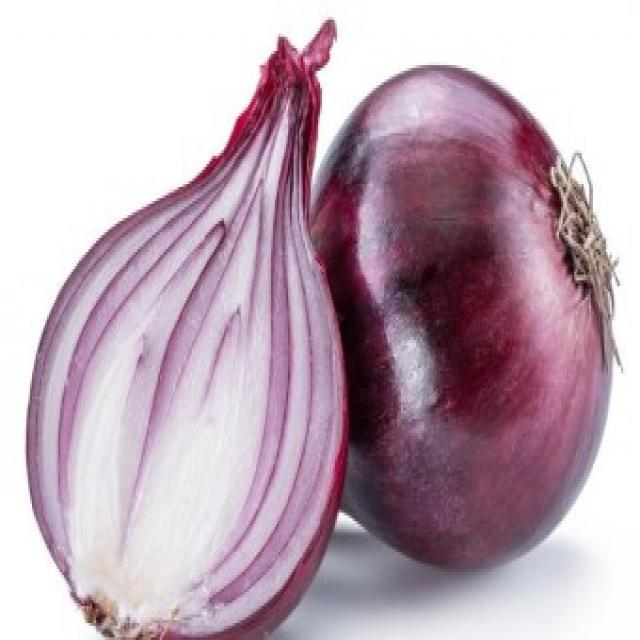Onion: (24, 92, 344, 637), (314, 52, 626, 566)
